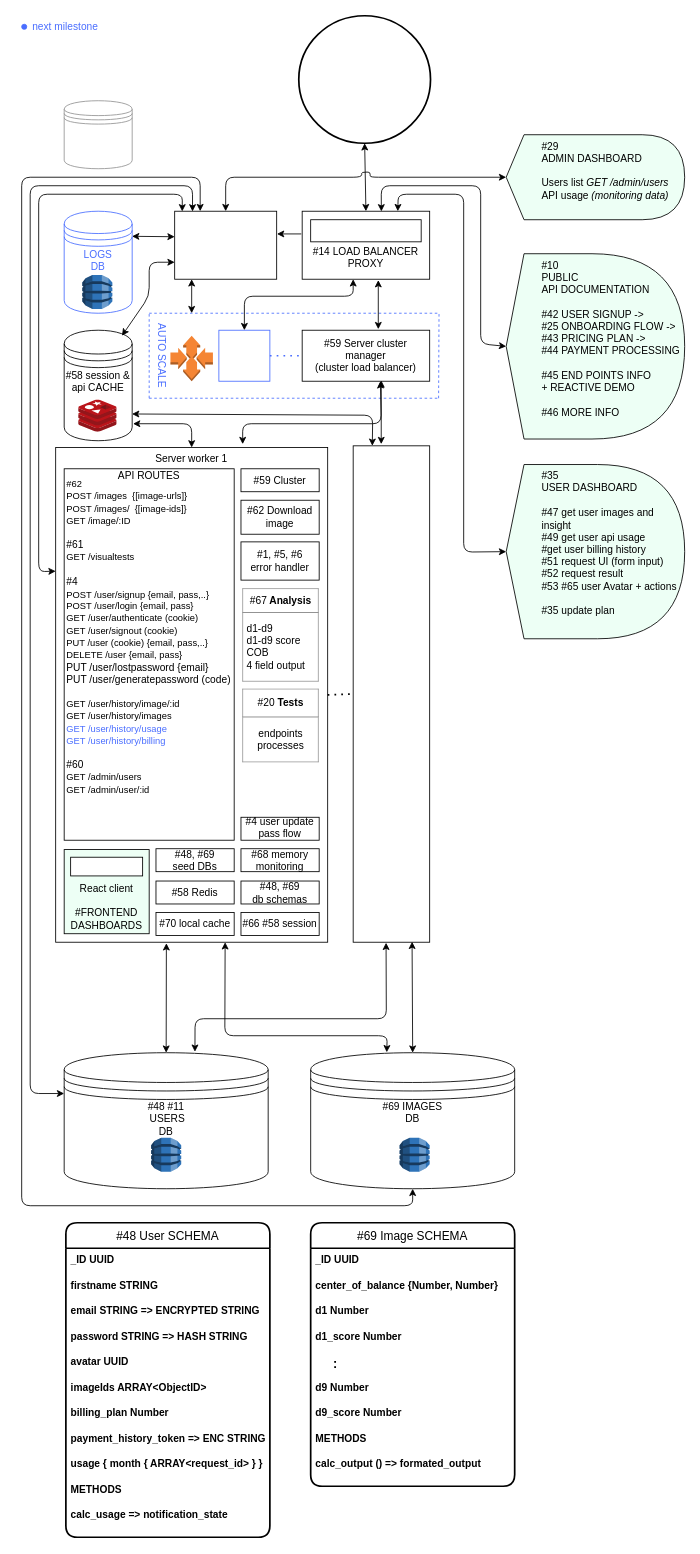
The diagram is 700 pixels wide and 1554 high, and some of its shapes have lost their labels. The shapes that lost their labels are listed below. From the top down, each one's centre as x and y in pixels, then its label:
pixel 364 79: WWW HTTP CLIENT (API REQUESTS)
pixel 97 134: ANALYSIS / ML DB
pixel 225 244: #57 MONITORING
pixel 365 230: cache
pixel 244 355: Server cluster manager..
pixel 391 693: Server worker n according to machine cores
pixel 106 866: frontend cache
